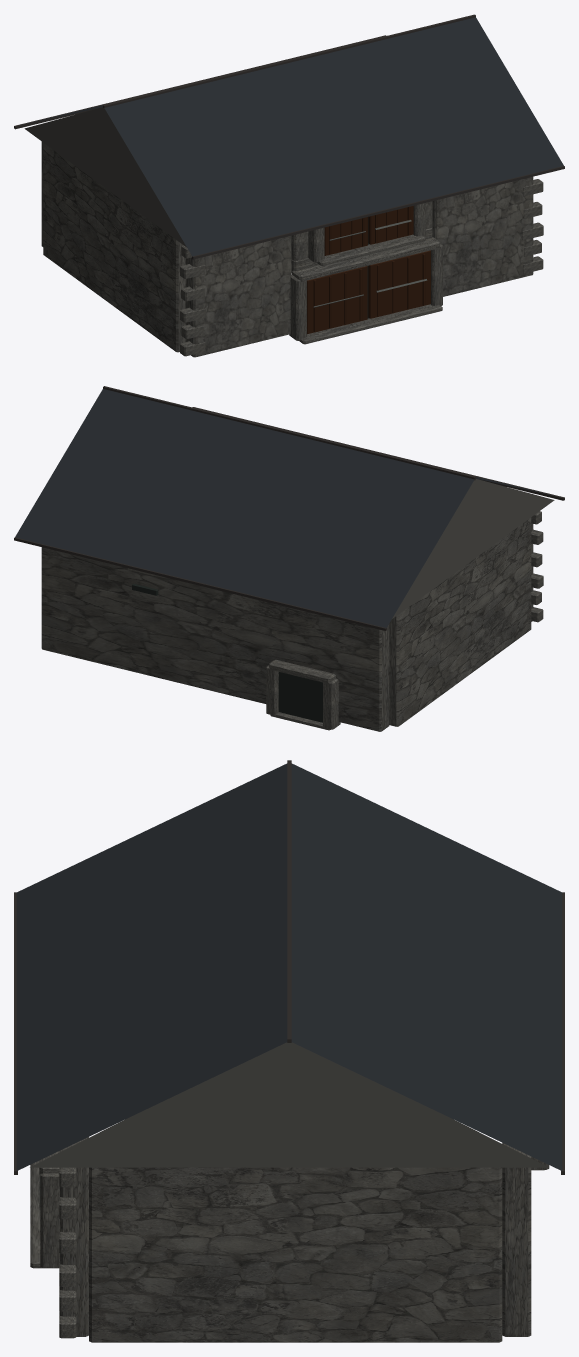
File: barn_house02_silhouette_roof_pitch.glb
The picture shows the model from 3 angles, top to bottom: view 1: azimuth 30°, elevation 25°; view 2: azimuth 150°, elevation 25°; view 3: azimuth 270°, elevation 25°; orthographic projection. The views are drawn at different scales.
Parts seen in each view (by area): view 1: V0346_House02_Family_Barn_Silhouette_Roof_Pitch_Visual; view 2: V0346_House02_Family_Barn_Silhouette_Roof_Pitch_Visual; view 3: V0346_House02_Family_Barn_Silhouette_Roof_Pitch_Visual.
Part boxes in pixels (x1,y1,x2,y2): V0346_House02_Family_Barn_Silhouette_Roof_Pitch_Visual: [14, 14, 564, 357]; V0346_House02_Family_Barn_Silhouette_Roof_Pitch_Visual: [14, 386, 564, 731]; V0346_House02_Family_Barn_Silhouette_Roof_Pitch_Visual: [14, 760, 564, 1342].
Size of the model in its own units: 13.82 by 7.38 by 11.54.
6 materials, 3 textured.
